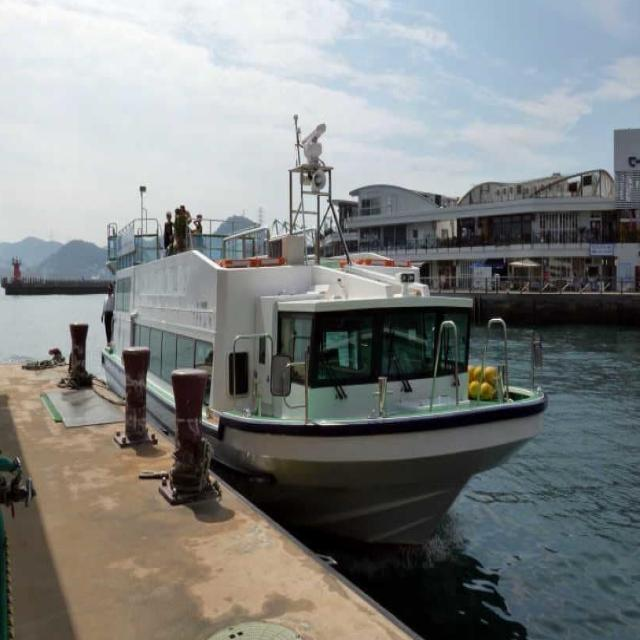houseboat: (95, 170, 549, 517)
